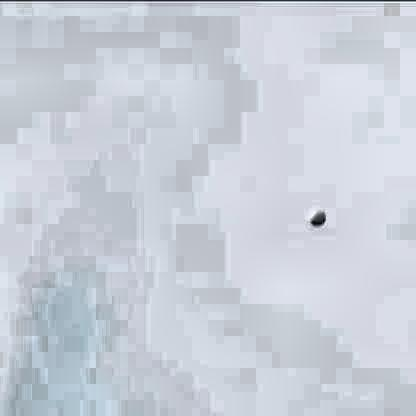golfball: (305, 205, 323, 224)
